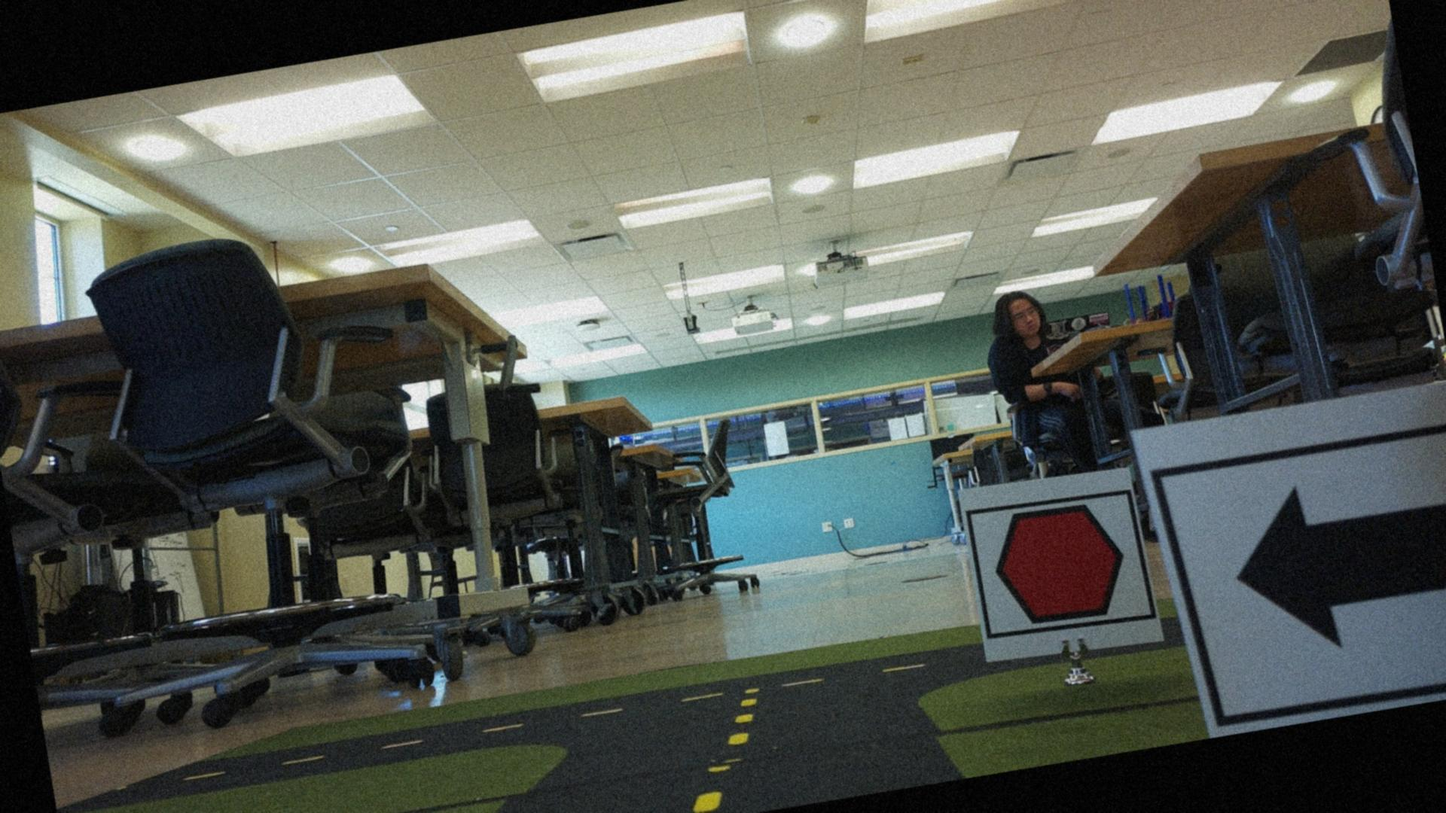stop: (966, 491, 1149, 641)
turnright: (1165, 426, 1445, 724)
yellowline: (676, 695, 776, 812)
